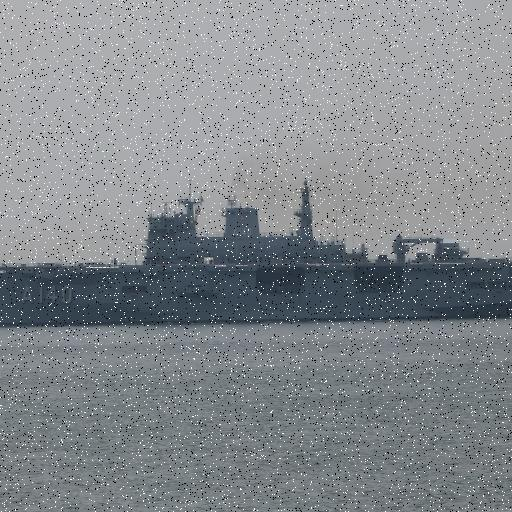Portanaves: (1, 176, 512, 330)
